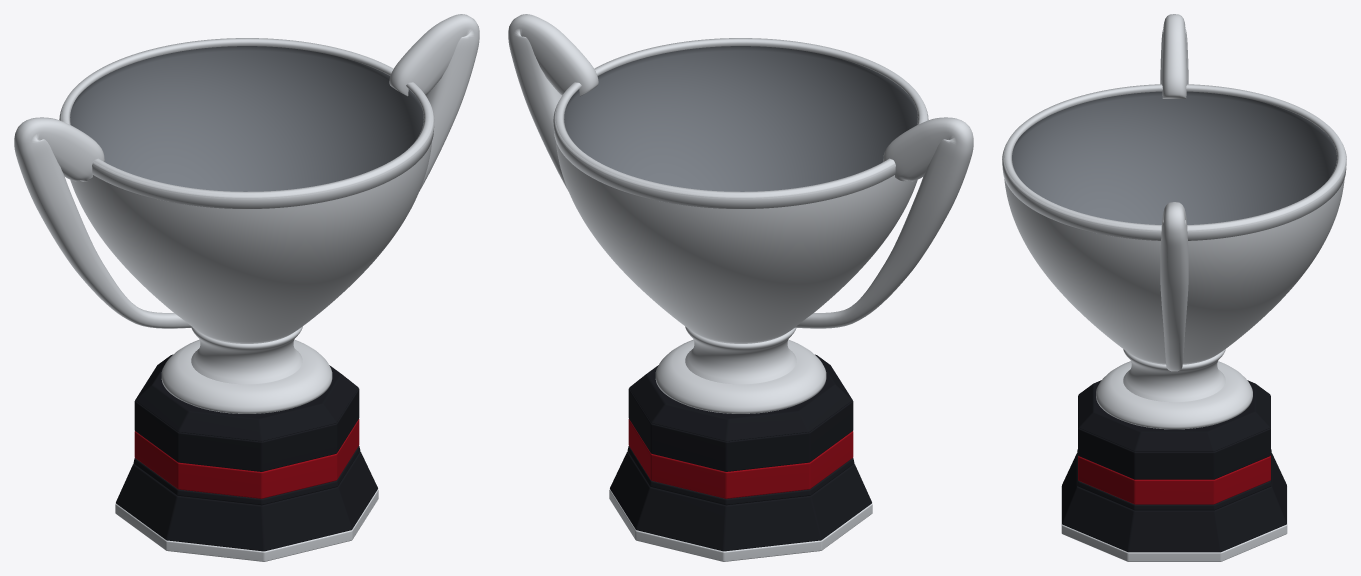
File: tournament-trophy-wing.glb
3 views of the same model, side by side, from view 1: azimuth 30°, elevation 25°; view 2: azimuth 150°, elevation 25°; view 3: azimuth 270°, elevation 25° (orthographic). The views are drawn at different scales.
Visible parts, largest first — view 1: SM_Hollow_Wing_Cup.002, SM_Obsidian_Flared_Foot.002, SM_Wing_Blade_-1.002, SM_Upper_Obsidian.002, SM_Sloping_Plinth_Cap.002, SM_Wing_Blade_1.002, SM_Neck_Polished_Base.002, SM_Ruby_Band.002, SM_Polished_Rim_Band.002, SM_Compact_Sculpted_Neck.002, SM_Platinum_Foot.002, SM_Lower_Rim.002; view 2: SM_Hollow_Wing_Cup.002, SM_Obsidian_Flared_Foot.002, SM_Wing_Blade_-1.002, SM_Upper_Obsidian.002, SM_Sloping_Plinth_Cap.002, SM_Wing_Blade_1.002, SM_Neck_Polished_Base.002, SM_Ruby_Band.002, SM_Polished_Rim_Band.002, SM_Compact_Sculpted_Neck.002, SM_Platinum_Foot.002, SM_Lower_Rim.002; view 3: SM_Hollow_Wing_Cup.002, SM_Obsidian_Flared_Foot.002, SM_Sloping_Plinth_Cap.002, SM_Upper_Obsidian.002, SM_Neck_Polished_Base.002, SM_Ruby_Band.002, SM_Polished_Rim_Band.002, SM_Wing_Blade_1.002, SM_Compact_Sculpted_Neck.002, SM_Platinum_Foot.002, SM_Wing_Blade_-1.002, SM_Lower_Rim.002.
Boxes of the visible parts, x1,y1,x2,y2 form: SM_Hollow_Wing_Cup.002: (60,38,433,343); SM_Obsidian_Flared_Foot.002: (116,451,377,551); SM_Wing_Blade_-1.002: (14,117,192,328); SM_Upper_Obsidian.002: (134,388,359,471); SM_Sloping_Plinth_Cap.002: (135,354,358,441); SM_Wing_Blade_1.002: (389,14,479,190); SM_Neck_Polished_Base.002: (161,339,332,413); SM_Ruby_Band.002: (134,419,359,498); SM_Polished_Rim_Band.002: (59,83,434,208); SM_Compact_Sculpted_Neck.002: (191,326,302,384); SM_Platinum_Foot.002: (115,489,378,561); SM_Lower_Rim.002: (133,446,360,505); SM_Hollow_Wing_Cup.002: (554,38,927,343); SM_Obsidian_Flared_Foot.002: (610,451,871,551); SM_Wing_Blade_-1.002: (795,117,973,328); SM_Upper_Obsidian.002: (628,388,853,471); SM_Sloping_Plinth_Cap.002: (629,354,852,441); SM_Wing_Blade_1.002: (508,14,598,190); SM_Neck_Polished_Base.002: (655,339,826,413); SM_Ruby_Band.002: (628,419,853,498); SM_Polished_Rim_Band.002: (553,83,928,208); SM_Compact_Sculpted_Neck.002: (685,326,796,384); SM_Platinum_Foot.002: (609,489,872,561); SM_Lower_Rim.002: (627,446,854,505); SM_Hollow_Wing_Cup.002: (1002,84,1346,364); SM_Obsidian_Flared_Foot.002: (1062,453,1286,552); SM_Sloping_Plinth_Cap.002: (1078,380,1270,451); SM_Upper_Obsidian.002: (1078,395,1270,479); SM_Neck_Polished_Base.002: (1096,361,1252,429); SM_Ruby_Band.002: (1078,455,1270,504); SM_Polished_Rim_Band.002: (1002,126,1346,240); SM_Wing_Blade_1.002: (1160,202,1188,371); SM_Compact_Sculpted_Neck.002: (1123,349,1225,402); SM_Platinum_Foot.002: (1061,486,1287,561); SM_Wing_Blade_-1.002: (1160,14,1188,98); SM_Lower_Rim.002: (1077,449,1271,510).
Size of the model in its own units: 0.4123 by 0.3752 by 0.2906.
